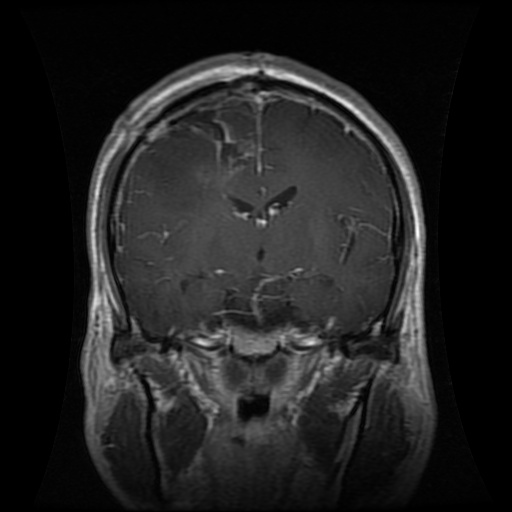glioma: (175, 92, 265, 177)
